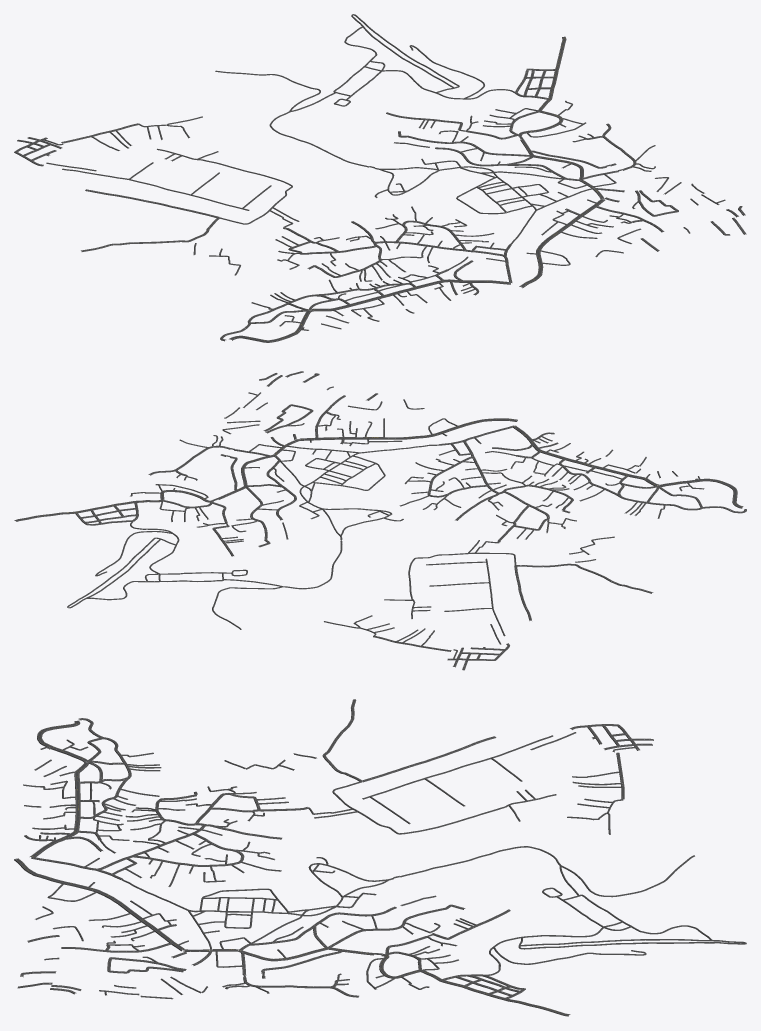
The model's file is osm_real_roads_T_E01_N01.glb.
3 views of the same model, one above another, from view 1: azimuth 30°, elevation 25°; view 2: azimuth 150°, elevation 25°; view 3: azimuth 270°, elevation 25° (orthographic). The views are drawn at different scales.
Parts seen in each view (by area): view 1: OSM_Roads_T_E01_N01_taluy_embankment, OSM_Roads_T_E01_N01_asphalt_local, OSM_Roads_T_E01_N01_sidewalk_paver, OSM_Roads_T_E01_N01_asphalt_primary; view 2: OSM_Roads_T_E01_N01_taluy_embankment, OSM_Roads_T_E01_N01_asphalt_local, OSM_Roads_T_E01_N01_sidewalk_paver, OSM_Roads_T_E01_N01_asphalt_primary; view 3: OSM_Roads_T_E01_N01_taluy_embankment, OSM_Roads_T_E01_N01_asphalt_local, OSM_Roads_T_E01_N01_sidewalk_paver, OSM_Roads_T_E01_N01_asphalt_primary, OSM_Roads_T_E01_N01_granite_curb.
Boxes of the visible parts, <box> form: OSM_Roads_T_E01_N01_taluy_embankment: <box>14,14,744,342</box>; OSM_Roads_T_E01_N01_asphalt_local: <box>15,14,745,340</box>; OSM_Roads_T_E01_N01_sidewalk_paver: <box>14,36,745,341</box>; OSM_Roads_T_E01_N01_asphalt_primary: <box>230,199,603,341</box>; OSM_Roads_T_E01_N01_taluy_embankment: <box>16,371,746,670</box>; OSM_Roads_T_E01_N01_asphalt_local: <box>15,371,746,670</box>; OSM_Roads_T_E01_N01_sidewalk_paver: <box>16,371,746,669</box>; OSM_Roads_T_E01_N01_asphalt_primary: <box>299,418,742,507</box>; OSM_Roads_T_E01_N01_taluy_embankment: <box>14,700,746,1016</box>; OSM_Roads_T_E01_N01_asphalt_local: <box>18,699,746,1015</box>; OSM_Roads_T_E01_N01_sidewalk_paver: <box>14,699,653,1015</box>; OSM_Roads_T_E01_N01_asphalt_primary: <box>15,720,184,950</box>; OSM_Roads_T_E01_N01_granite_curb: <box>19,707,650,1013</box>.
Size of the model in its own units: 2467 by 48 by 2379.
8 materials, 6 textured.
